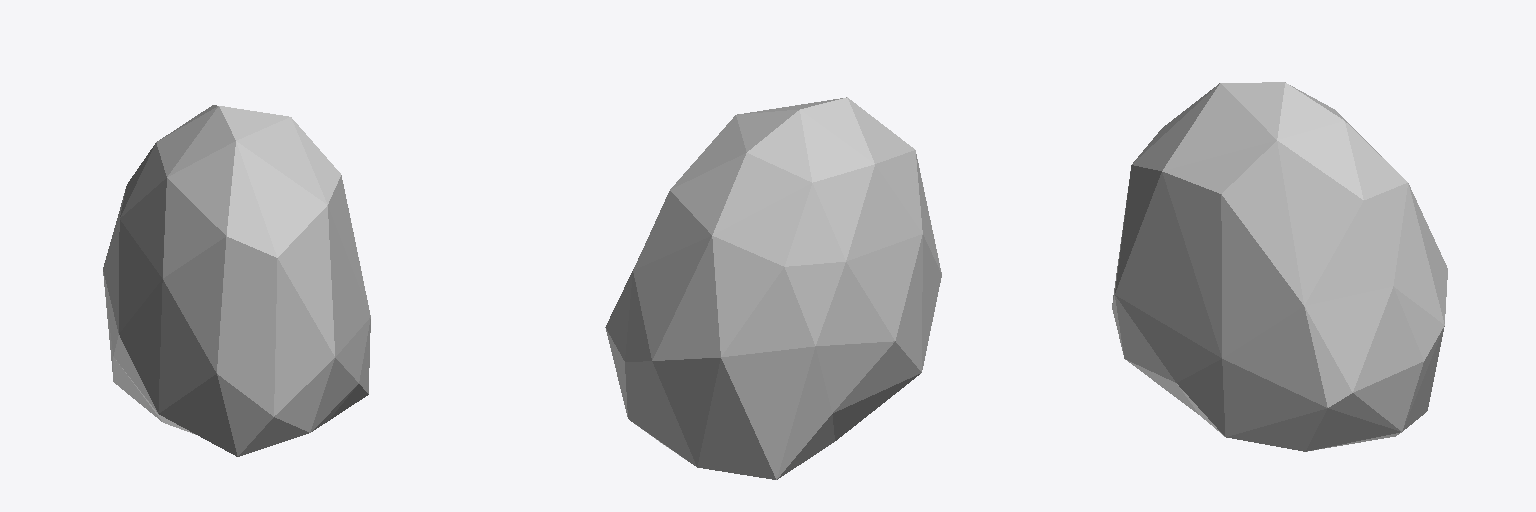
File: kamien_5.2.obj
3 views of the same model, side by side, from view 1: azimuth 30°, elevation 25°; view 2: azimuth 150°, elevation 25°; view 3: azimuth 270°, elevation 25° (orthographic).
Parts seen in each view (by area): view 1: rock; view 2: rock; view 3: rock.
Boxes of the visible parts, x1=… form: rock: x1=103, y1=105, x2=370, y2=456; rock: x1=605, y1=97, x2=941, y2=479; rock: x1=1112, y1=82, x2=1447, y2=451.
Size of the model in its own units: 0.9762 by 1.11 by 1.07.